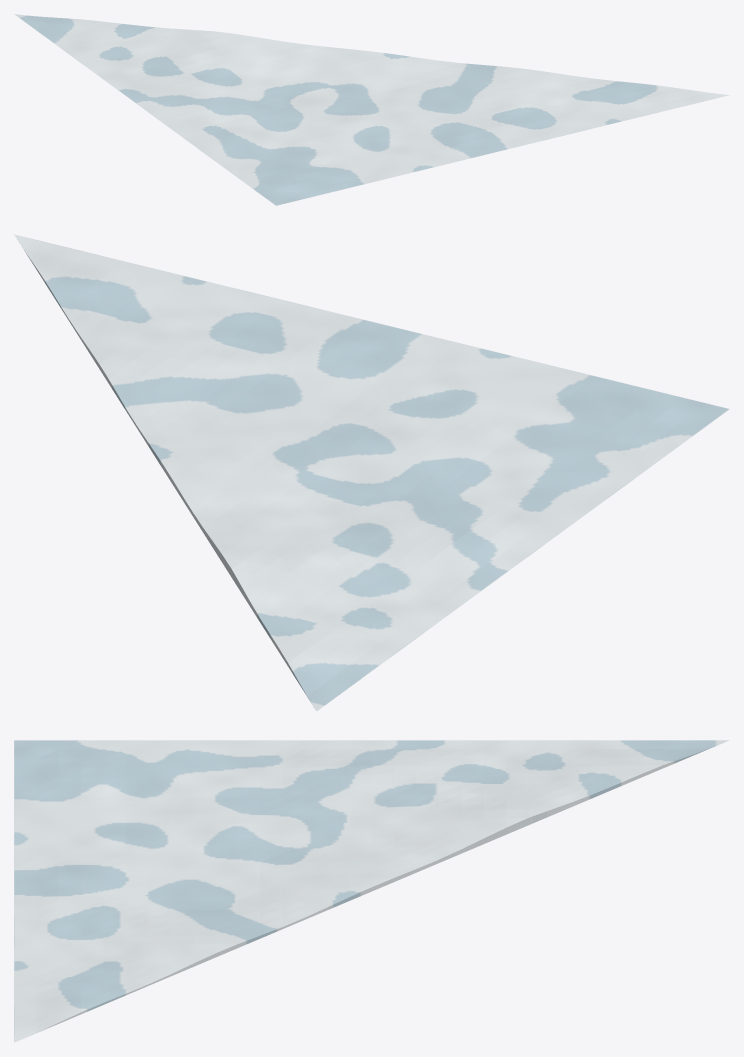
Rendered from Snow_Flat_09_NW.obj.
3 renders of one model, top to bottom at view 1: azimuth 30°, elevation 25°; view 2: azimuth 150°, elevation 25°; view 3: azimuth 270°, elevation 25°, orthographic. The views are drawn at different scales.
Size of the model in its own units: 10 by 0.1145 by 10.
1 material, 1 textured.
